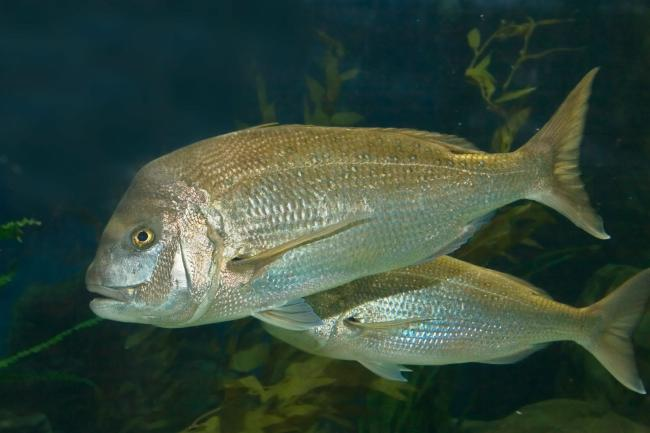fish: (84, 64, 611, 329)
